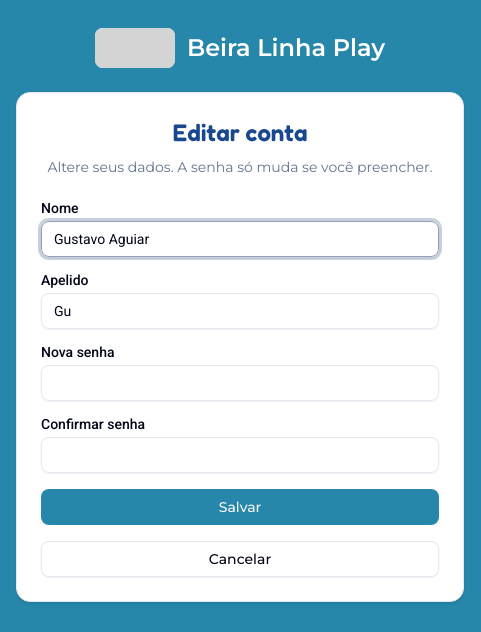
Scenario: EditAccountPage › warns when passwords do not match
The image size is (481, 632).
Step 1. Type "123456" into the password field labelled "Nova senha" → (240, 383), box x1=41 y1=365 x2=439 y2=401
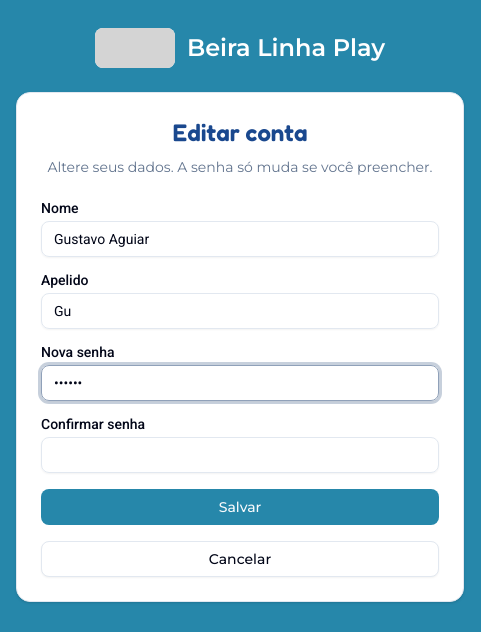
Step 2. Type "abcdef" into the password field labelled "Confirmar senha" → (240, 455), box x1=41 y1=437 x2=439 y2=473
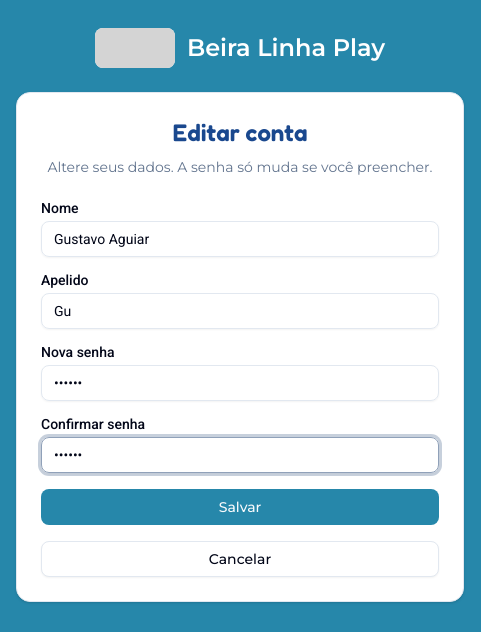
Step 3. Click the button "Salvar" → click(240, 507), box x1=41 y1=489 x2=439 y2=525
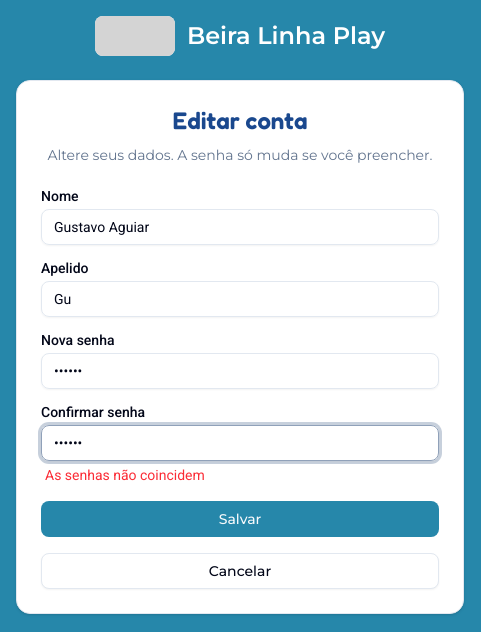
Check: the text "As senhas não coincidem" is shown, box x1=45 y1=467 x2=205 y2=483
